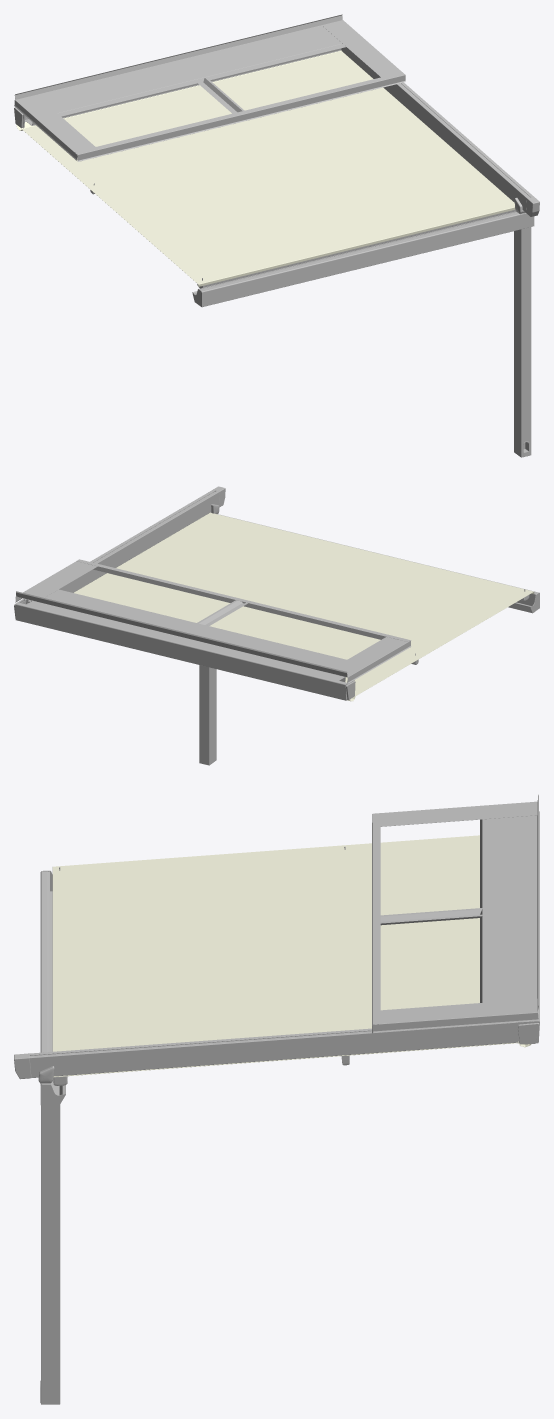
The model's file is flag3.fbx.
The picture shows the model from 3 angles, top to bottom: view 1: azimuth 30°, elevation 25°; view 2: azimuth 150°, elevation 25°; view 3: azimuth 270°, elevation 25°; orthographic projection. The views are drawn at different scales.
Parts seen in each view (by area): view 1: Telo, Tettuccio, Trave, Montante, Guida, Trave_Posteriore, Frangivento_Iniziale_Finale; view 2: Telo, Tettuccio, Trave_Posteriore, Guida, Montante, Trave; view 3: Telo, Tettuccio, Guida, Montante, Trave, Trave_Posteriore.
Part boxes in pixels (x1=…): Telo: x1=16, y1=50, x2=515, y2=286; Tettuccio: x1=14, y1=14, x2=405, y2=161; Trave: x1=192, y1=211, x2=534, y2=307; Montante: x1=514, y1=227, x2=531, y2=457; Guida: x1=341, y1=47, x2=539, y2=216; Trave_Posteriore: x1=14, y1=48, x2=341, y2=128; Frangivento_Iniziale_Finale: x1=197, y1=209, x2=515, y2=288; Telo: x1=74, y1=512, x2=534, y2=701; Tettuccio: x1=15, y1=559, x2=411, y2=683; Trave_Posteriore: x1=14, y1=598, x2=355, y2=700; Guida: x1=21, y1=486, x2=225, y2=604; Montante: x1=199, y1=665, x2=216, y2=765; Trave: x1=218, y1=514, x2=539, y2=613; Telo: x1=52, y1=835, x2=531, y2=1077; Tettuccio: x1=372, y1=794, x2=538, y2=1033; Guida: x1=14, y1=1022, x2=518, y2=1079; Montante: x1=40, y1=1104, x2=60, y2=1404; Trave: x1=40, y1=870, x2=65, y2=1105; Trave_Posteriore: x1=516, y1=811, x2=539, y2=1044.
Size of the model in its own units: 305 by 265 by 317.
